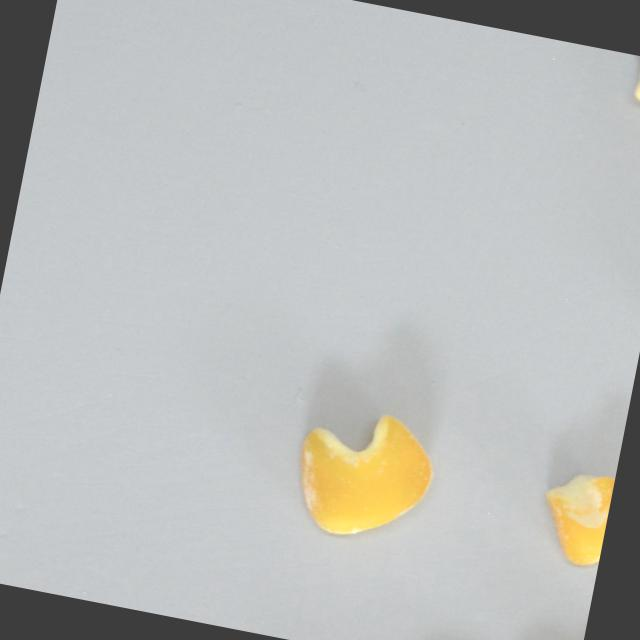no_canjicado: (530, 462, 616, 570)
pelicula: (284, 397, 443, 551), (618, 54, 640, 104)
